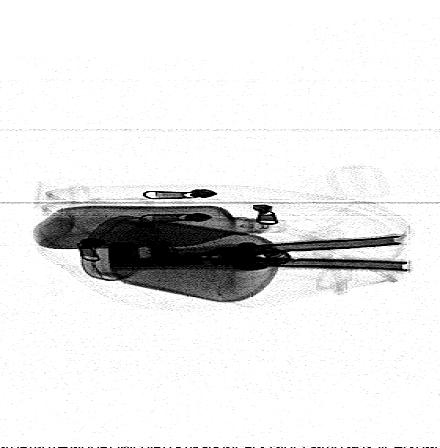Pliers: (108, 233, 411, 272)
